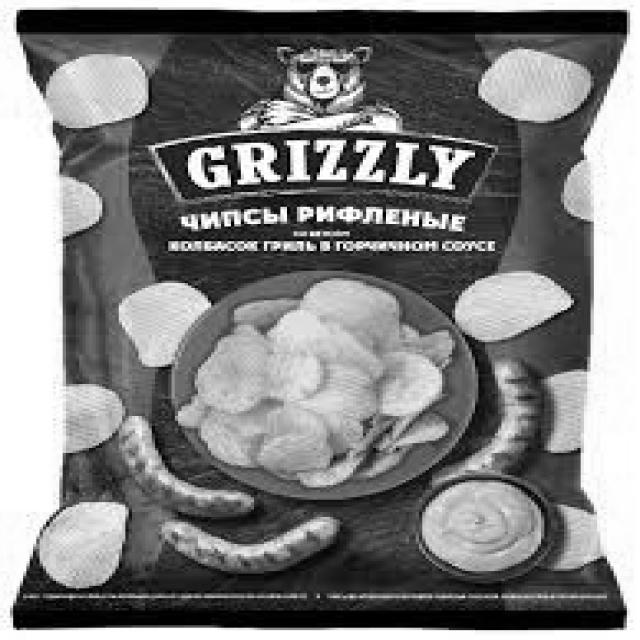grizzly: (161, 45, 502, 204)
